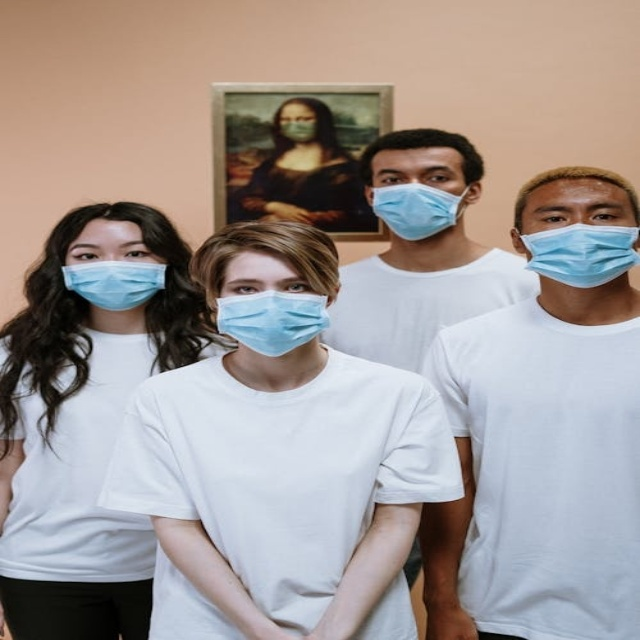Mascara: (213, 290, 331, 357), (518, 223, 640, 287), (369, 182, 469, 239), (61, 260, 169, 310), (279, 119, 318, 142)
Sin_gafas: (529, 197, 616, 223), (372, 162, 458, 182), (225, 273, 306, 294), (69, 241, 147, 259), (280, 113, 315, 122)
Sin_guantes: (263, 202, 319, 225)
